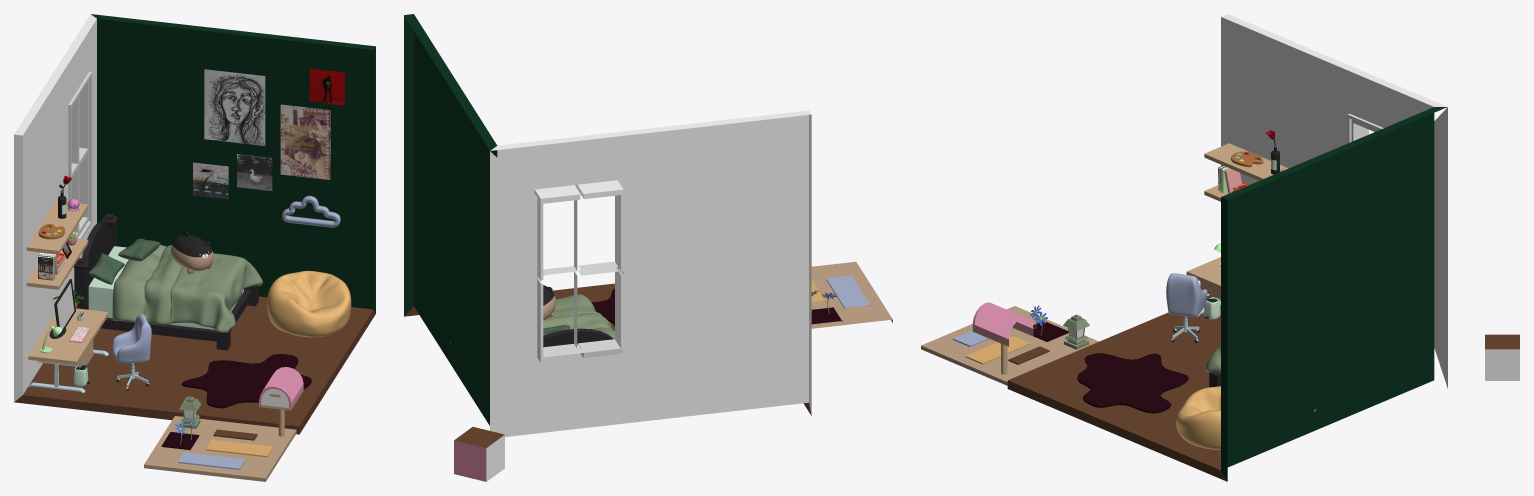
The model's file is FinalCompositeRoom.glb.
The picture shows the model from 3 angles, left to right: view 1: azimuth 30°, elevation 25°; view 2: azimuth 150°, elevation 25°; view 3: azimuth 270°, elevation 25°; orthographic projection. The views are drawn at different scales.
Parts seen in each view (by area): view 1: Room, Bed, WallDecor, Beanbag, MiniFloor, Carpet, Table, Shelf, Mailbox, Chair, Plushie, Item1 (+7 smaller); view 2: Room, MiniFloor, Bed, Cube, MiniFloor4; view 3: Room, Carpet, MiniFloor, Beanbag, Mailbox, Cube, Chair, Shelf, Table, Item2, MiniFloor3, Lantern.
Boxes of the visible parts, x1=… form: Room: x1=14, y1=14, x2=375, y2=434; Bed: x1=73, y1=214, x2=262, y2=350; WallDecor: x1=193, y1=68, x2=344, y2=227; Beanbag: x1=267, y1=270, x2=351, y2=337; MiniFloor: x1=144, y1=416, x2=296, y2=481; Carpet: x1=182, y1=354, x2=311, y2=408; Table: x1=28, y1=308, x2=108, y2=392; Shelf: x1=26, y1=200, x2=88, y2=289; Mailbox: x1=259, y1=367, x2=303, y2=436; Chair: x1=112, y1=314, x2=151, y2=363; Plushie: x1=170, y1=230, x2=213, y2=273; Item1: x1=38, y1=233, x2=77, y2=280; Room: x1=404, y1=14, x2=811, y2=436; MiniFloor: x1=811, y1=261, x2=892, y2=328; Bed: x1=450, y1=294, x2=614, y2=347; Cube: x1=454, y1=427, x2=504, y2=481; MiniFloor4: x1=826, y1=275, x2=870, y2=308; Room: x1=1007, y1=14, x2=1447, y2=481; Carpet: x1=1077, y1=353, x2=1188, y2=413; MiniFloor: x1=921, y1=306, x2=1098, y2=385; Beanbag: x1=1176, y1=386, x2=1220, y2=450; Mailbox: x1=972, y1=302, x2=1033, y2=374; Cube: x1=1485, y1=334, x2=1519, y2=380; Chair: x1=1166, y1=273, x2=1207, y2=317; Shelf: x1=1204, y1=143, x2=1288, y2=201; Table: x1=1186, y1=257, x2=1220, y2=319; Item2: x1=1231, y1=130, x2=1285, y2=174; MiniFloor3: x1=965, y1=336, x2=1030, y2=364; Lantern: x1=1063, y1=314, x2=1089, y2=349.
Size of the model in its own units: 77.89 by 55.08 by 106.
Materials: 38 (8 with a texture image).
